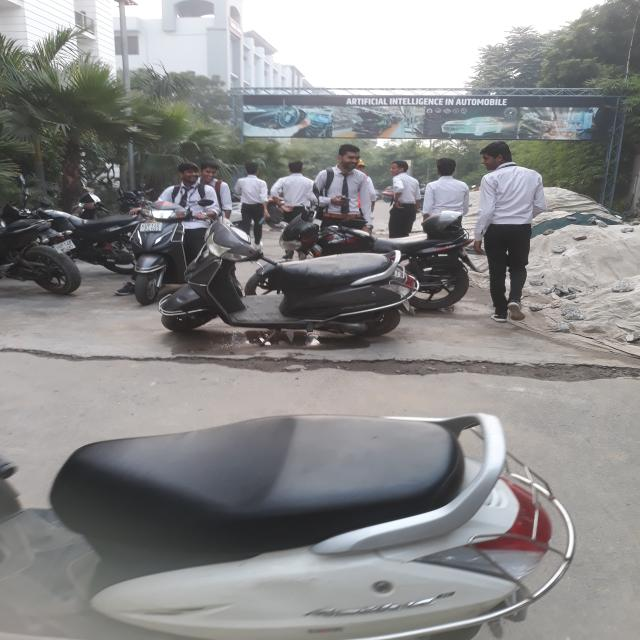unsafe: (476, 140, 537, 323), (313, 140, 368, 228), (165, 164, 206, 242), (238, 162, 272, 246), (423, 156, 469, 216), (388, 160, 420, 233), (273, 162, 312, 215)
